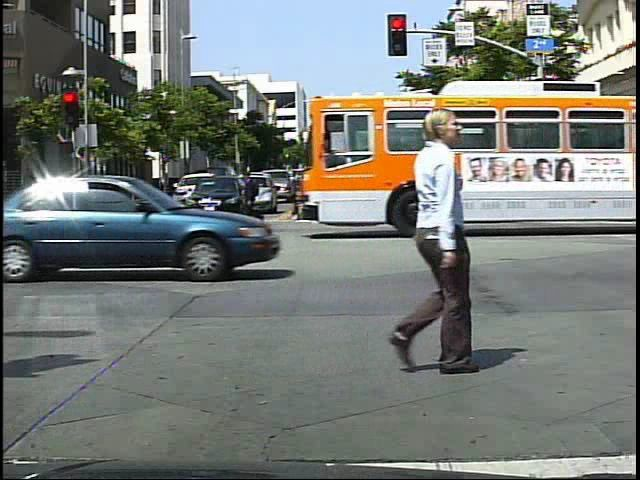person: (360, 83, 492, 383), (329, 164, 360, 228), (241, 166, 268, 221), (550, 160, 573, 211), (303, 166, 316, 230)
